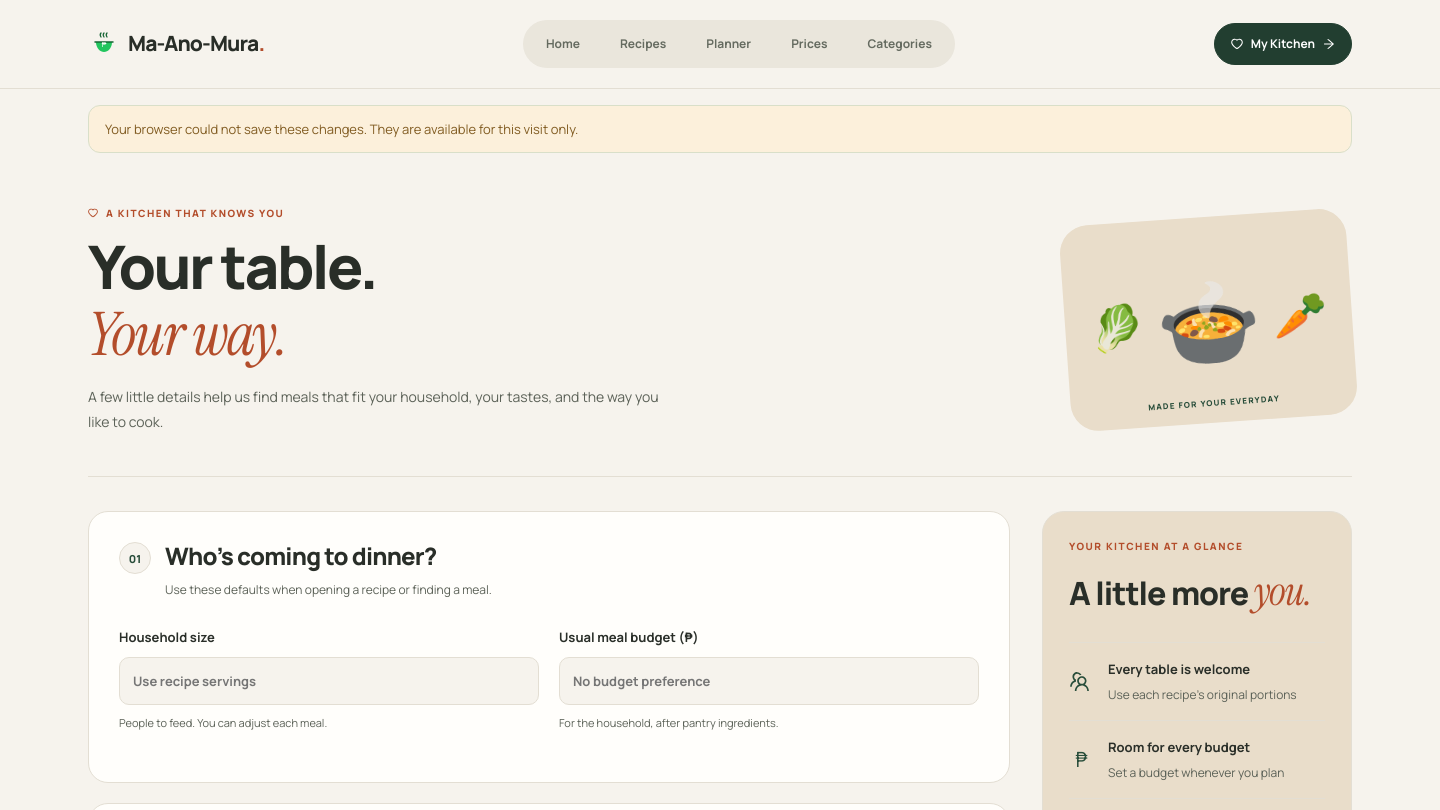
Test: preferences remain usable for this visit when saving is blocked
The image size is (1440, 810).
Type "5" into the number field labelled "Household size".
click(329, 681); type("5")  # box [119, 657, 539, 706]
(page scrolled)
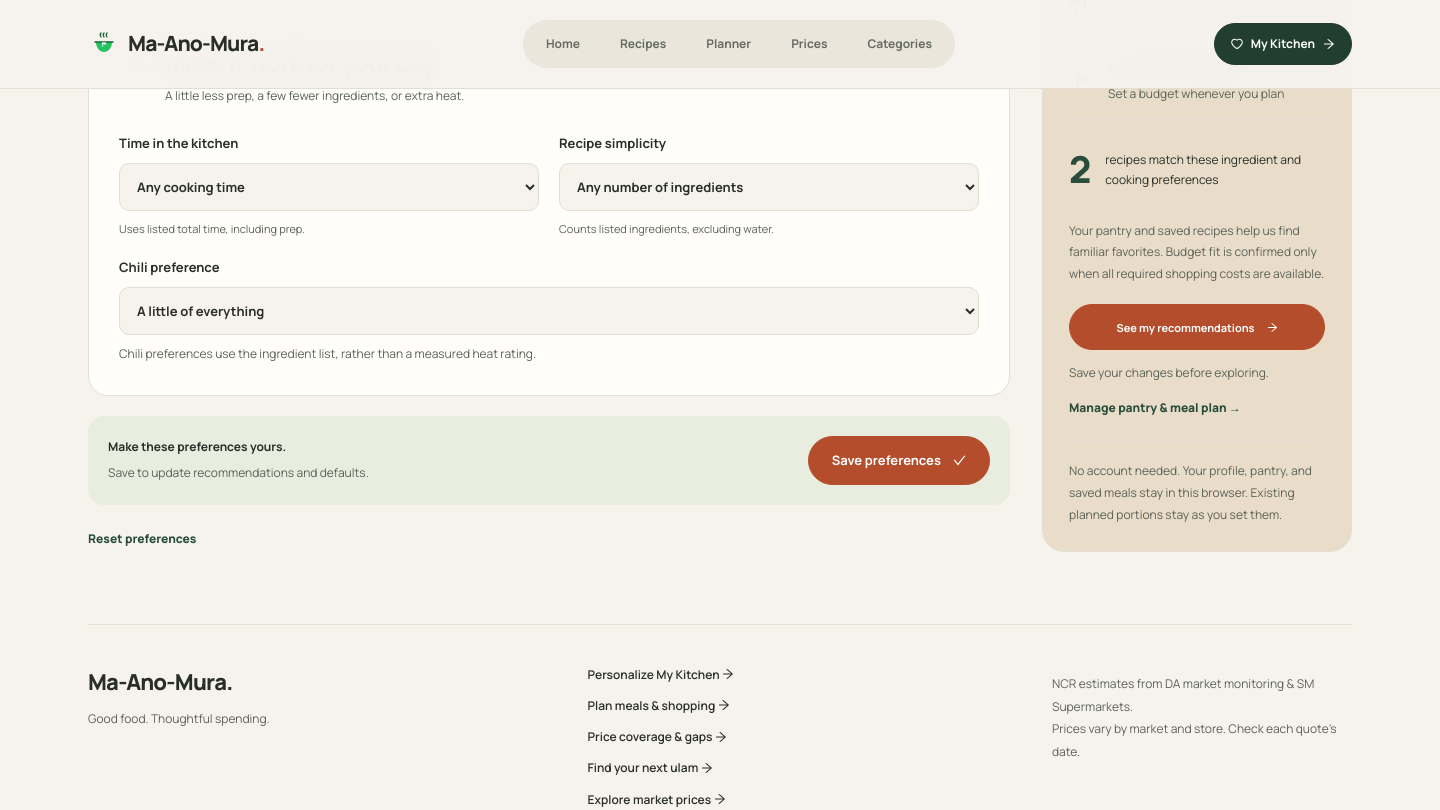
Click the button "Save preferences".
click(899, 460)  # box [808, 436, 990, 485]
(page scrolled)
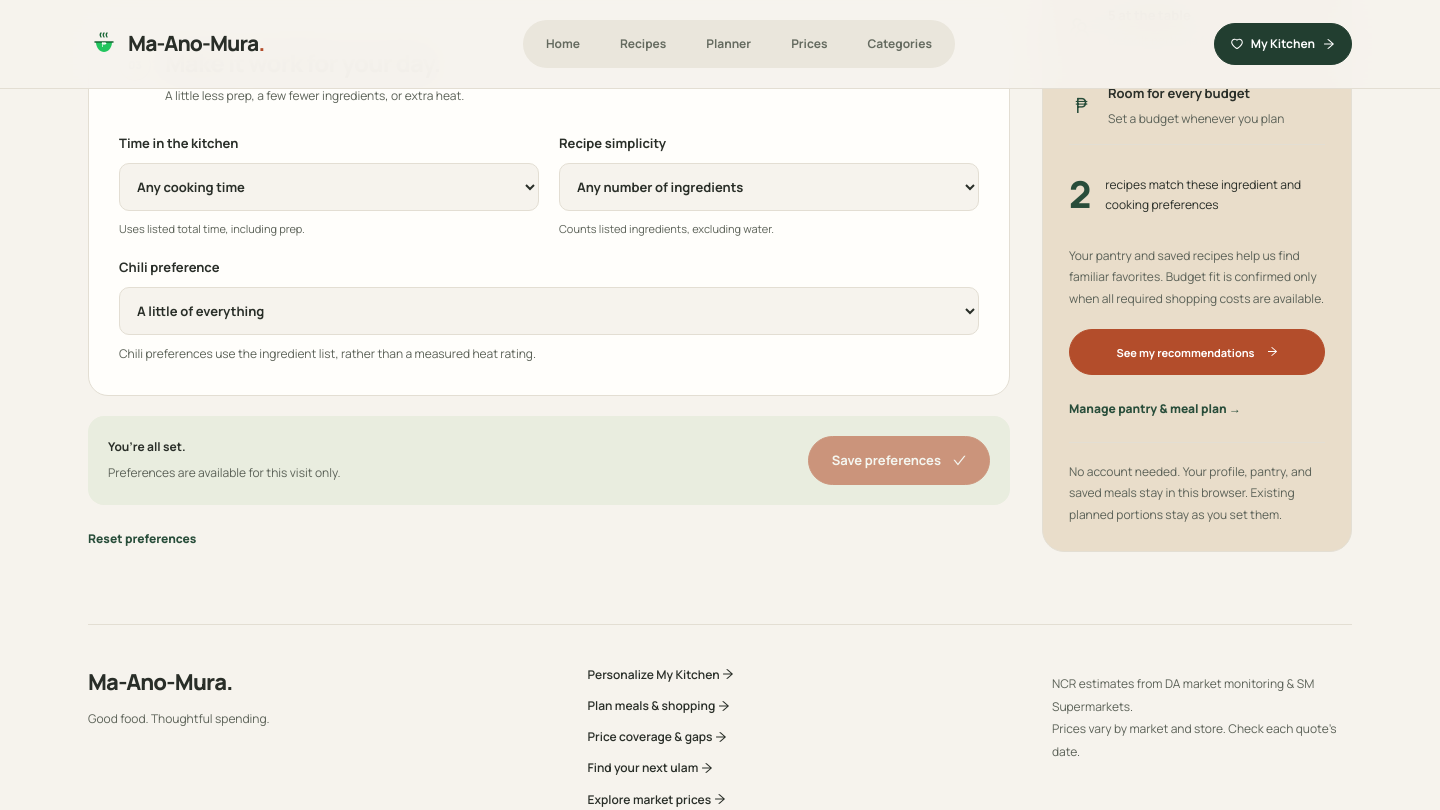
Click the link "Recipes".
click(643, 44)  # box [620, 35, 666, 52]
(page scrolled)
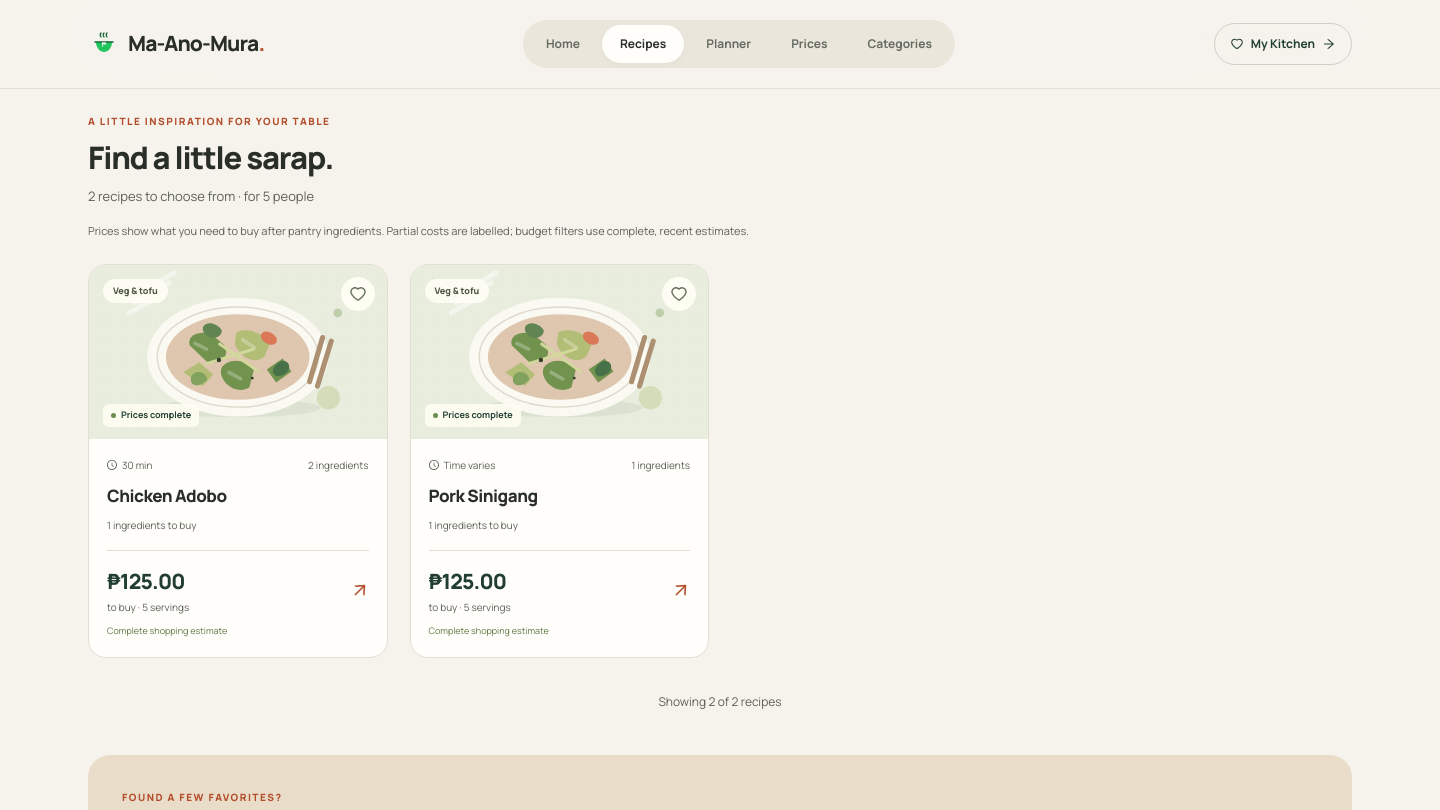
Click the link with aria-label "View recipe: Chicken Adobo".
click(238, 352)  # box [89, 265, 386, 657]
(page scrolled)
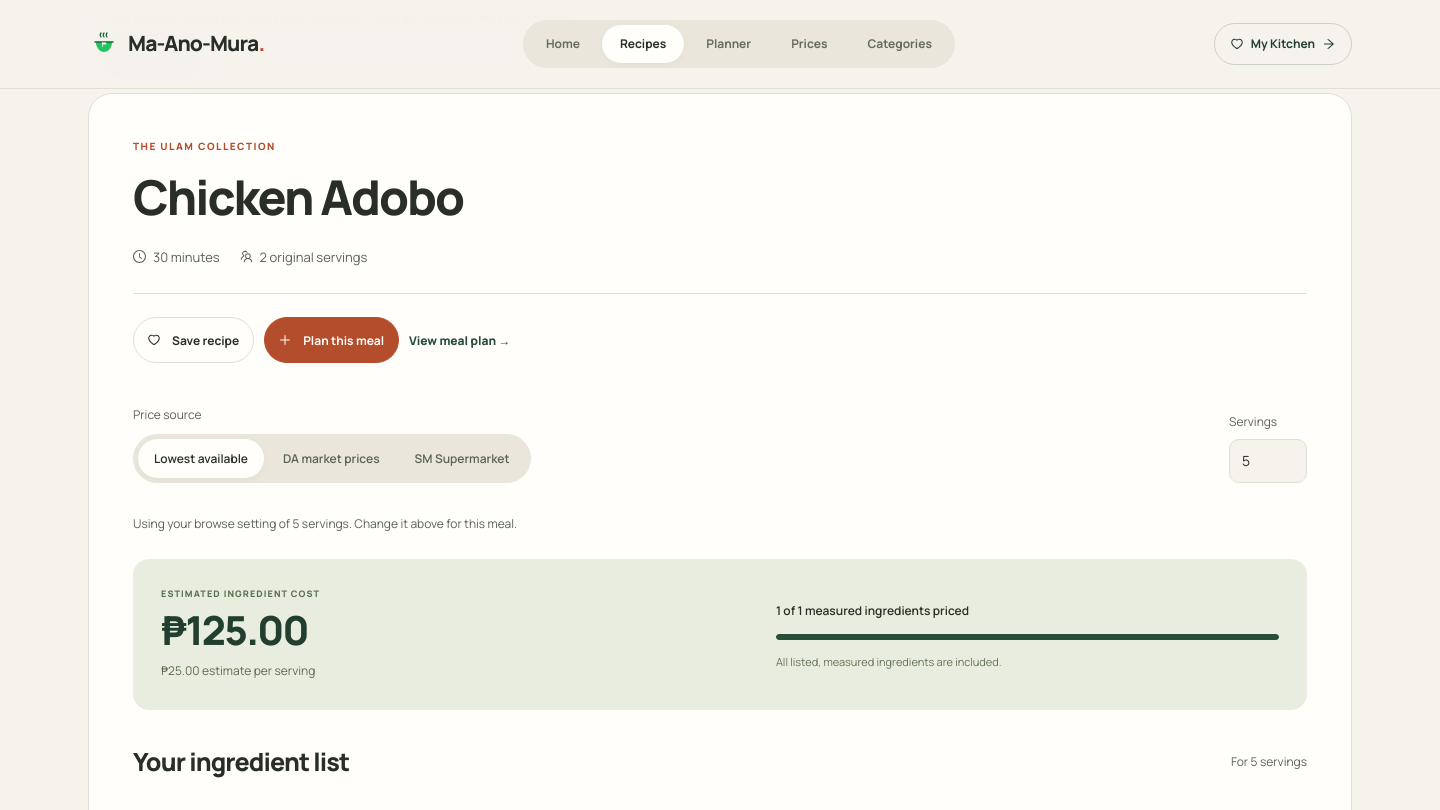
Expected: the number field named "Number of servings" holds "5", [1229, 439, 1307, 483]
